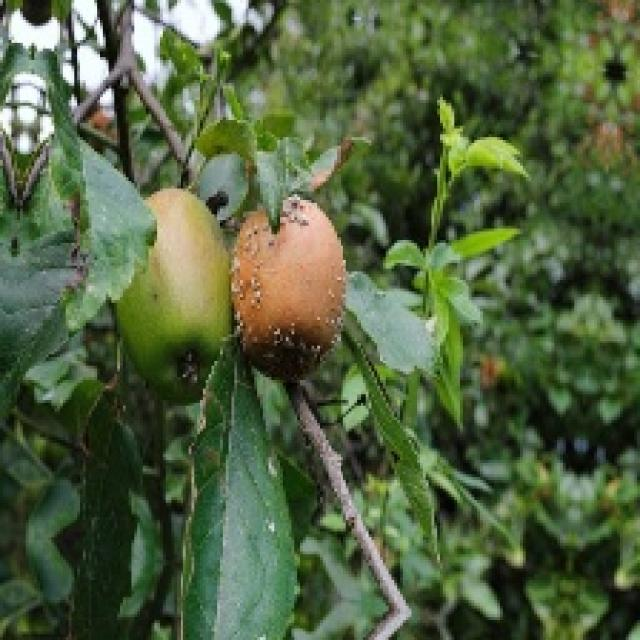rotten_apple: (238, 197, 344, 375)
